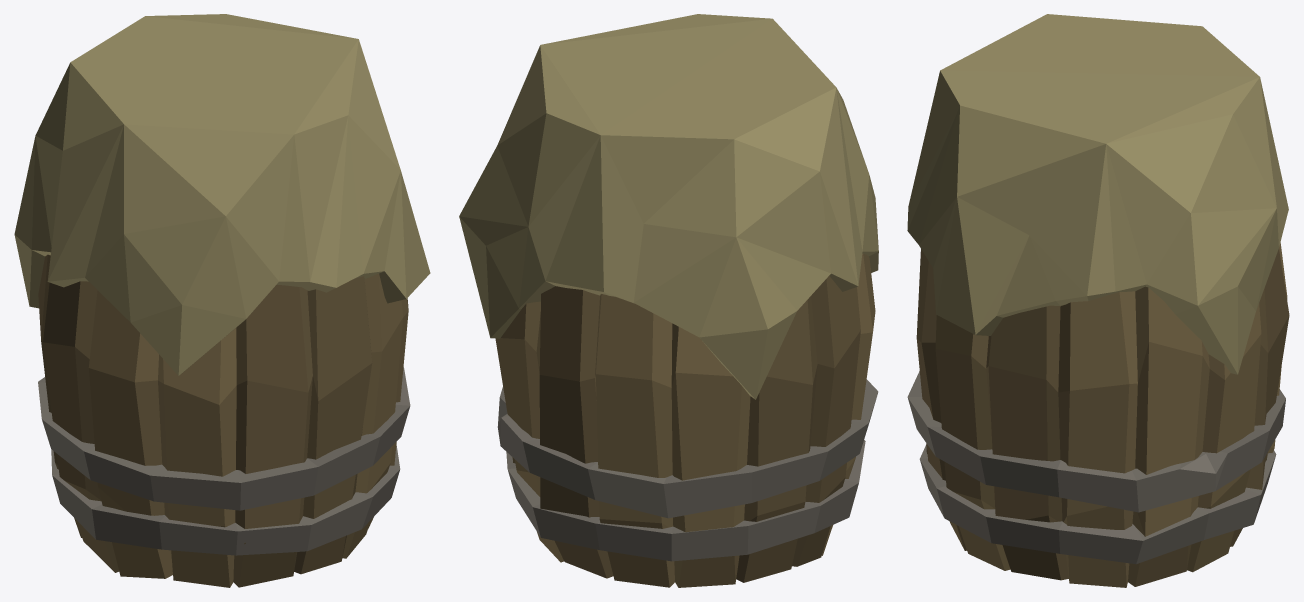
The model's file is Barrel_4.fbx.
3 views of the same model, side by side, from view 1: azimuth 30°, elevation 25°; view 2: azimuth 150°, elevation 25°; view 3: azimuth 270°, elevation 25° (orthographic).
Parts seen in each view (by area): view 1: Barrel_4; view 2: Barrel_4; view 3: Barrel_4.
Part boxes in pixels (left/top/right/bottom): Barrel_4: left=14, top=14, right=430, bottom=587; Barrel_4: left=459, top=14, right=878, bottom=587; Barrel_4: left=907, top=14, right=1289, bottom=587.
Bounding box in the file's own units: 77.28 × 97.64 × 73.4.
